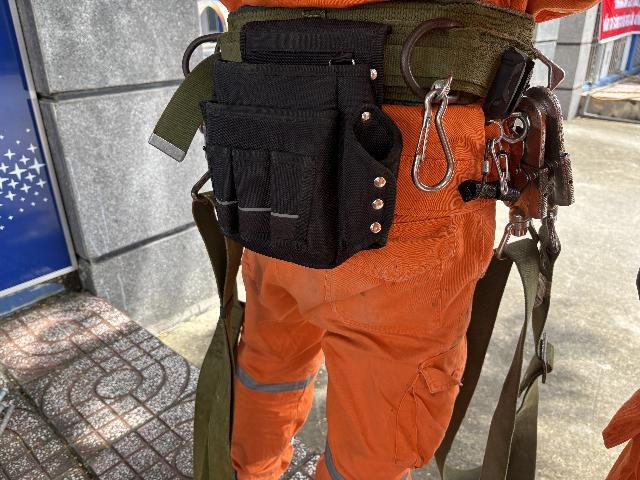harness: (122, 3, 569, 118)
